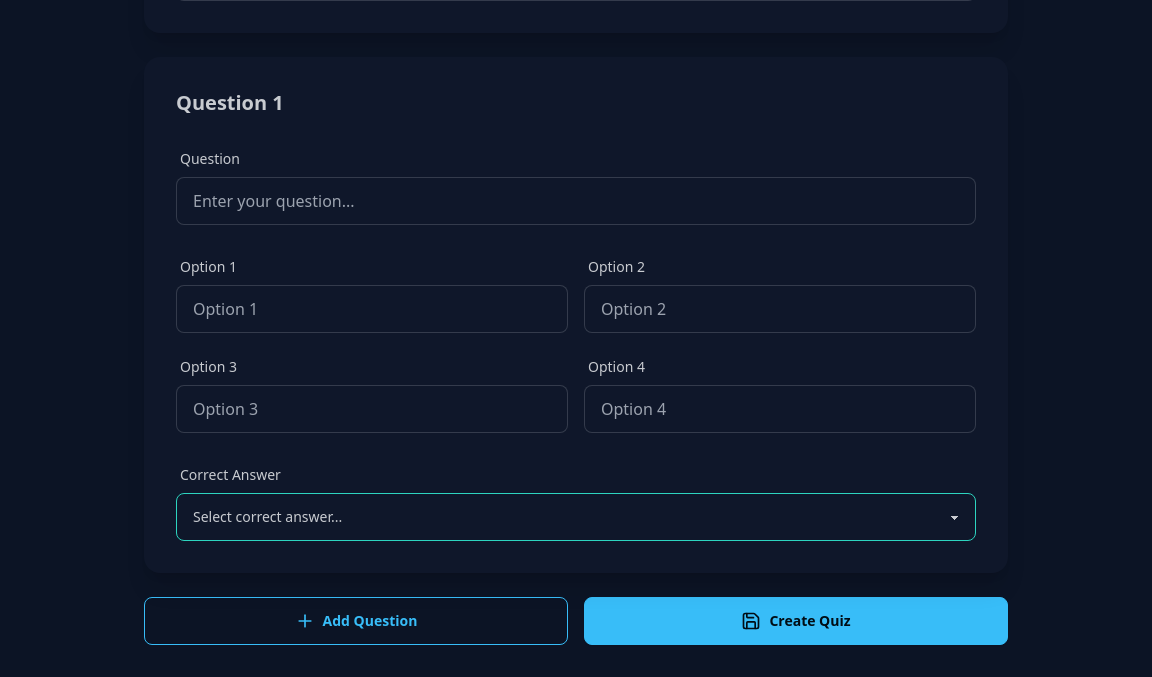
QuizBuilderPage › Adding and Removing Questions › removes a question when delete button is clicked
(page scrolled)
Note: Add a second question
Click the button "Add Question": [356, 621] box x1=144 y1=597 x2=568 y2=645
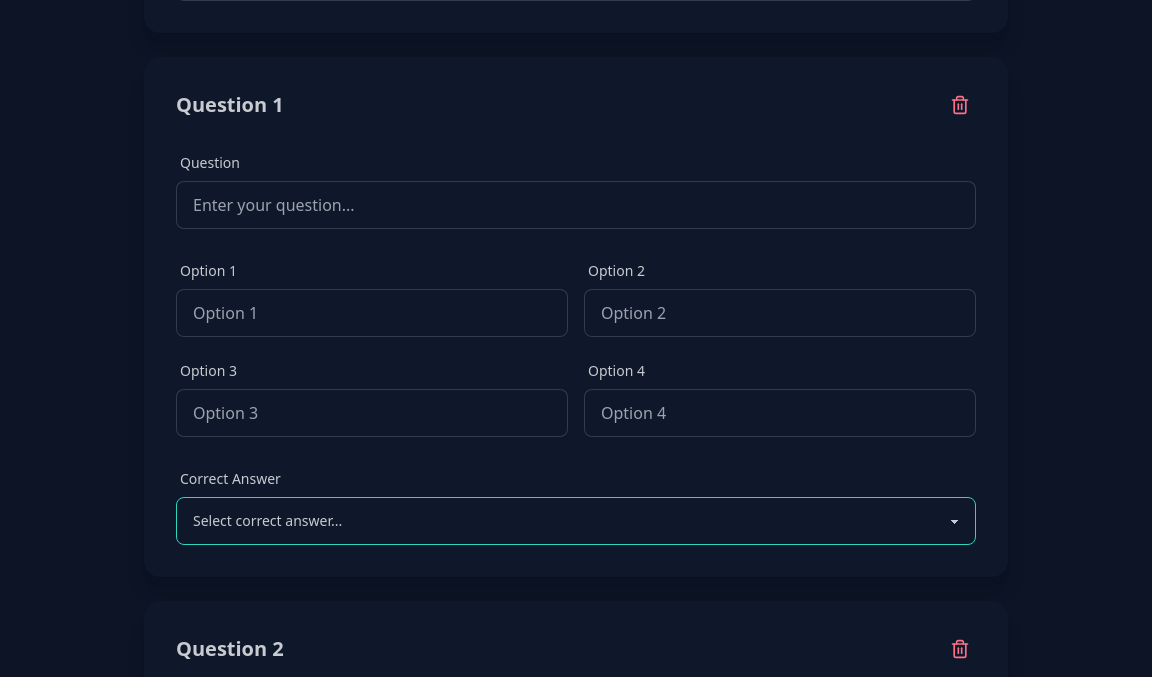
Now the heading "Question 2" is shown, box x1=176 y1=635 x2=284 y2=663
Click the 2nd button: [960, 649] box x1=944 y1=633 x2=976 y2=665
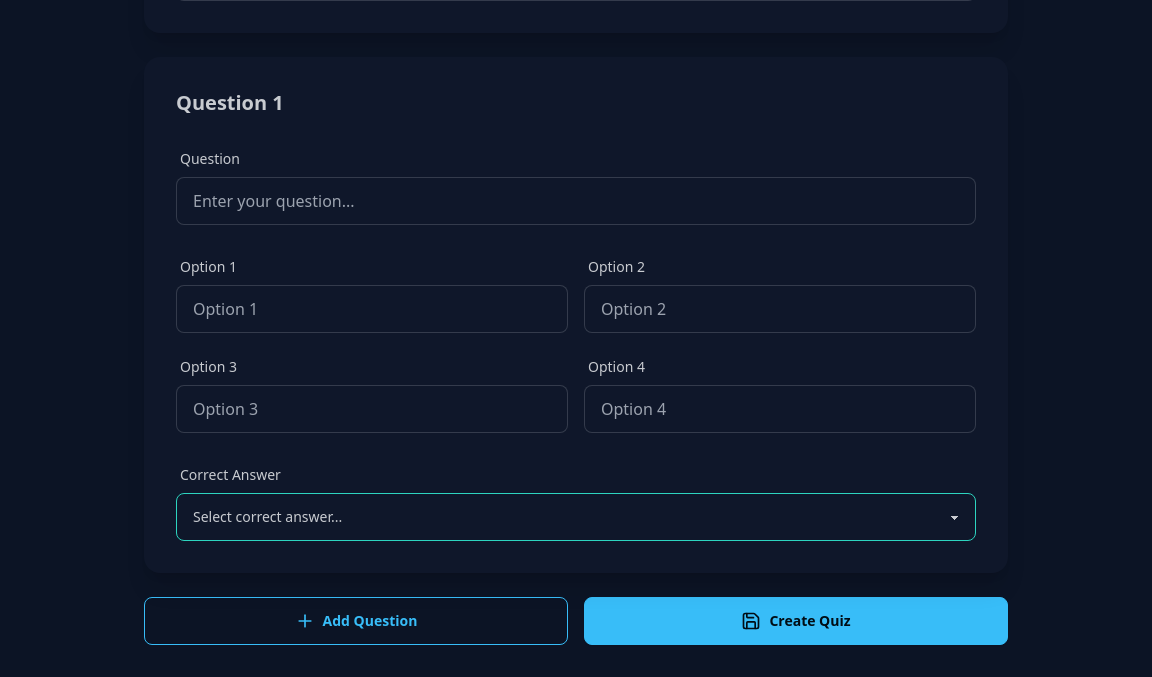
Now the heading "Question 2" is gone
